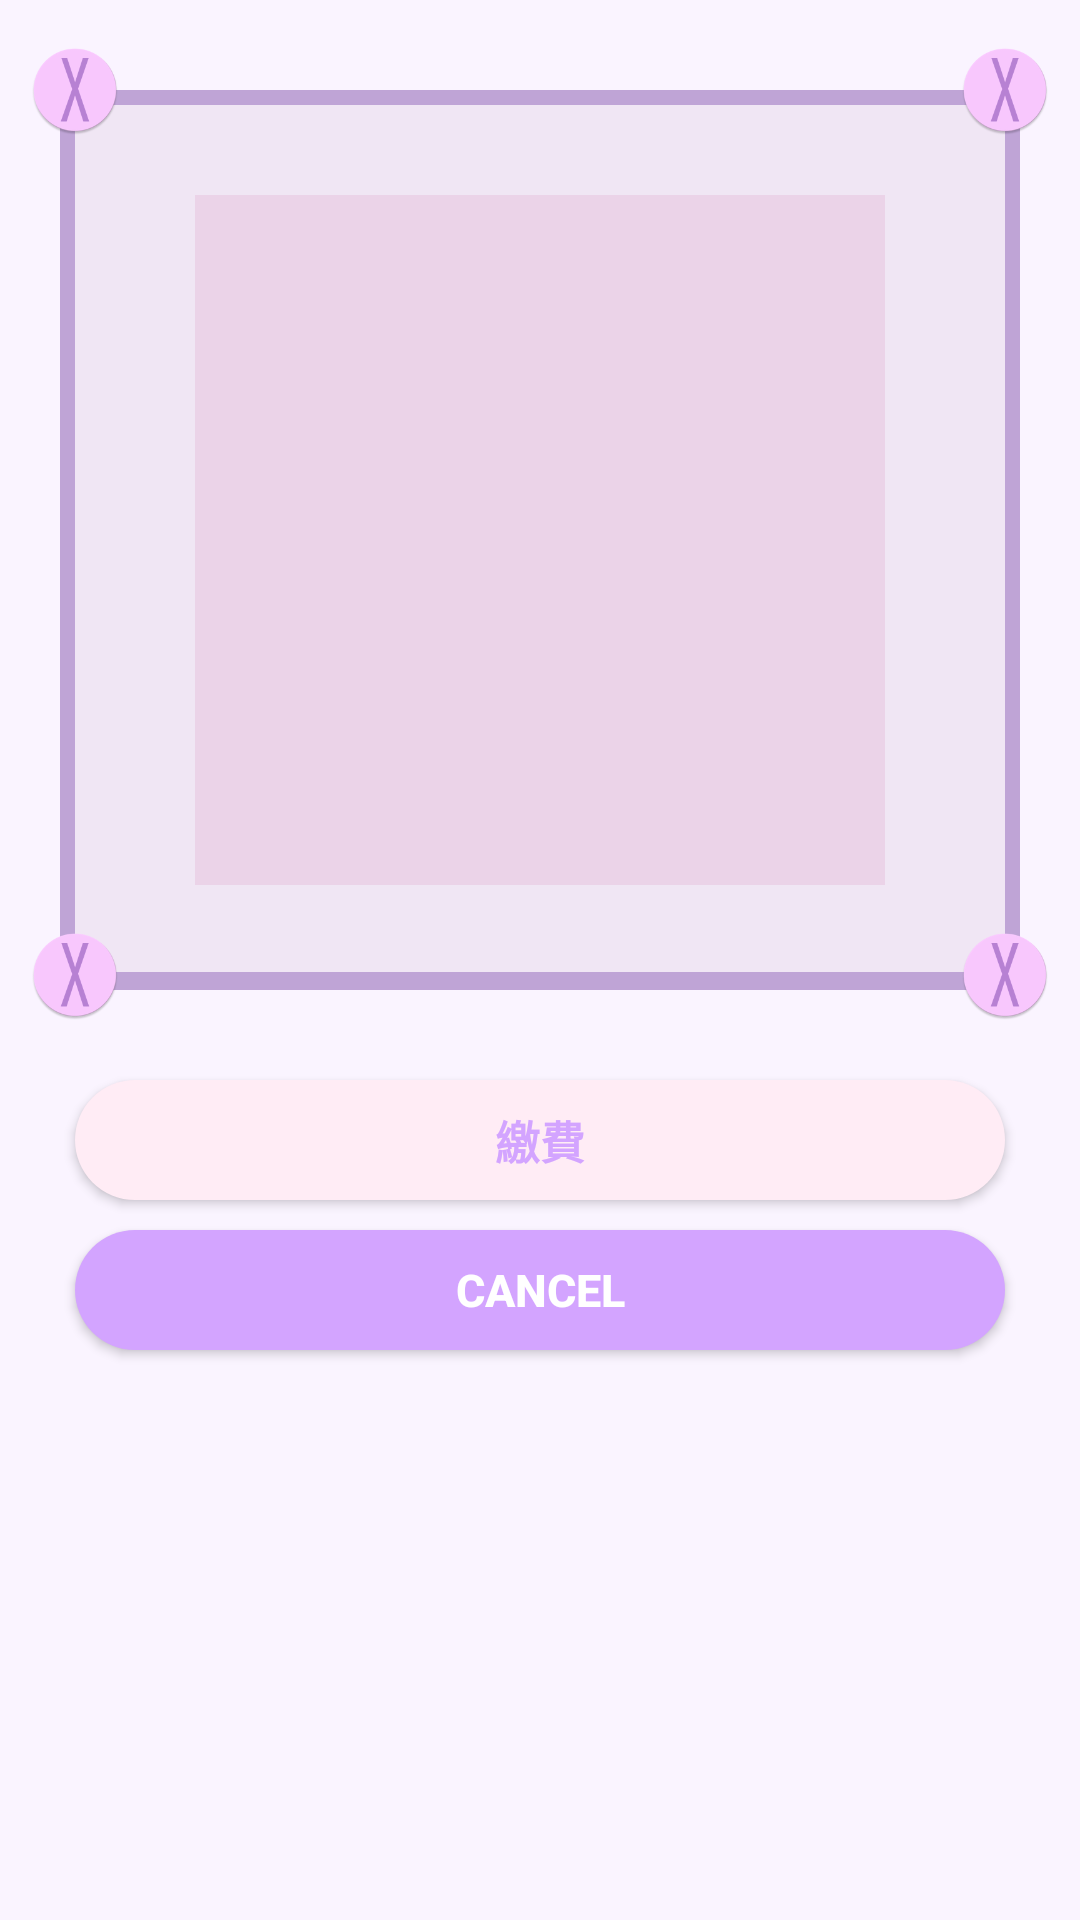

Named icons in this screenshot (1080w x 1920h) and their centers, point (x, y):
cir: point (77, 92), point (1003, 92), point (77, 974), point (1003, 974)
